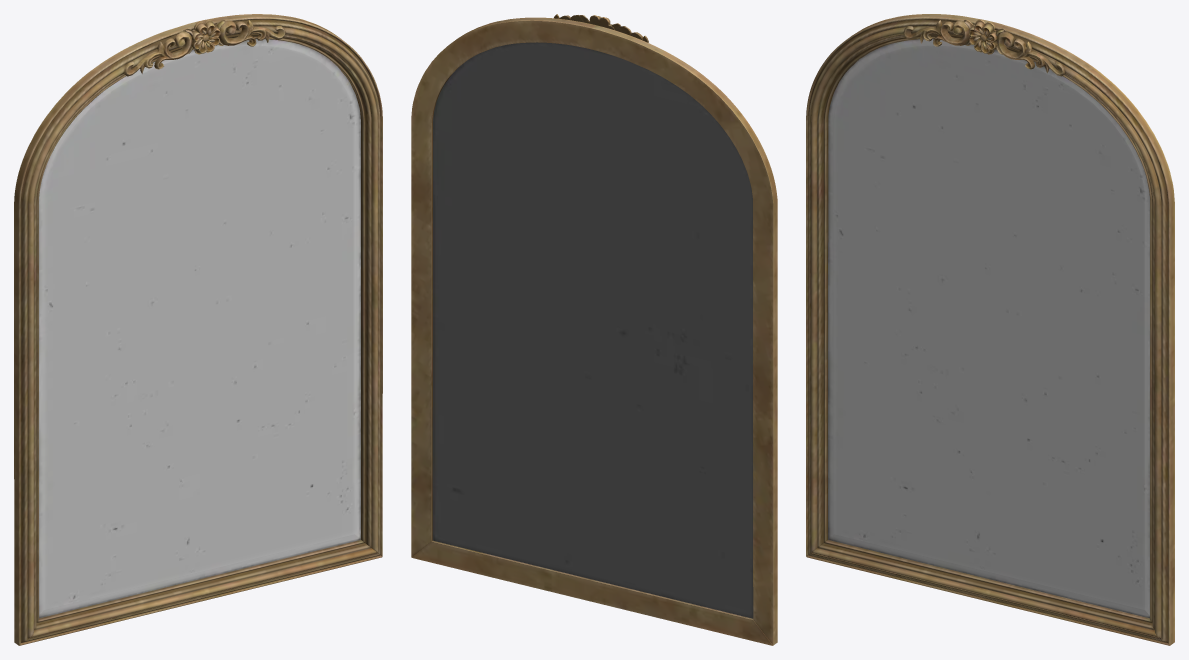
Rendered from ornate_mirror_01.glb.
The picture shows the model from 3 angles, left to right: view 1: azimuth 30°, elevation 25°; view 2: azimuth 150°, elevation 25°; view 3: azimuth 330°, elevation 25°; orthographic projection.
Visible parts, largest first — view 1: ornate_mirror_01; view 2: ornate_mirror_01; view 3: ornate_mirror_01.
Boxes of the visible parts, <box> form: ornate_mirror_01: <box>14,14,382,645</box>; ornate_mirror_01: <box>411,14,777,645</box>; ornate_mirror_01: <box>806,14,1174,645</box>.
Bounding box in the file's own units: 0.4865 × 0.7442 × 0.026.
Materials: 1 (1 with a texture image).
